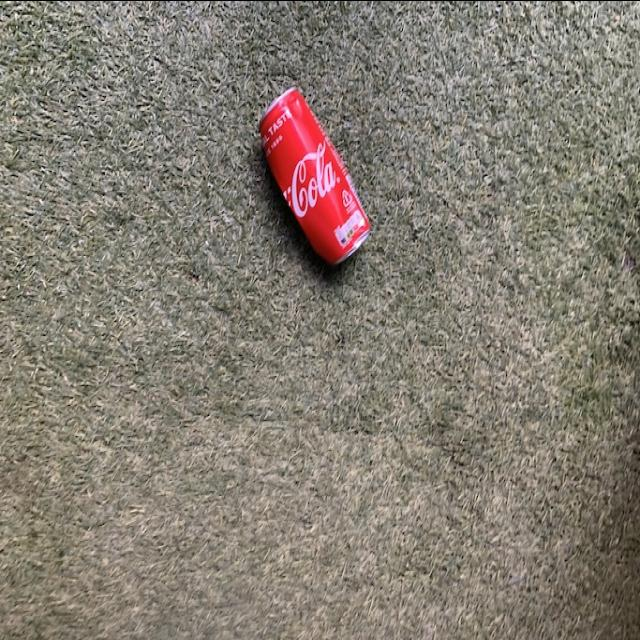litter: (256, 79, 375, 265)
